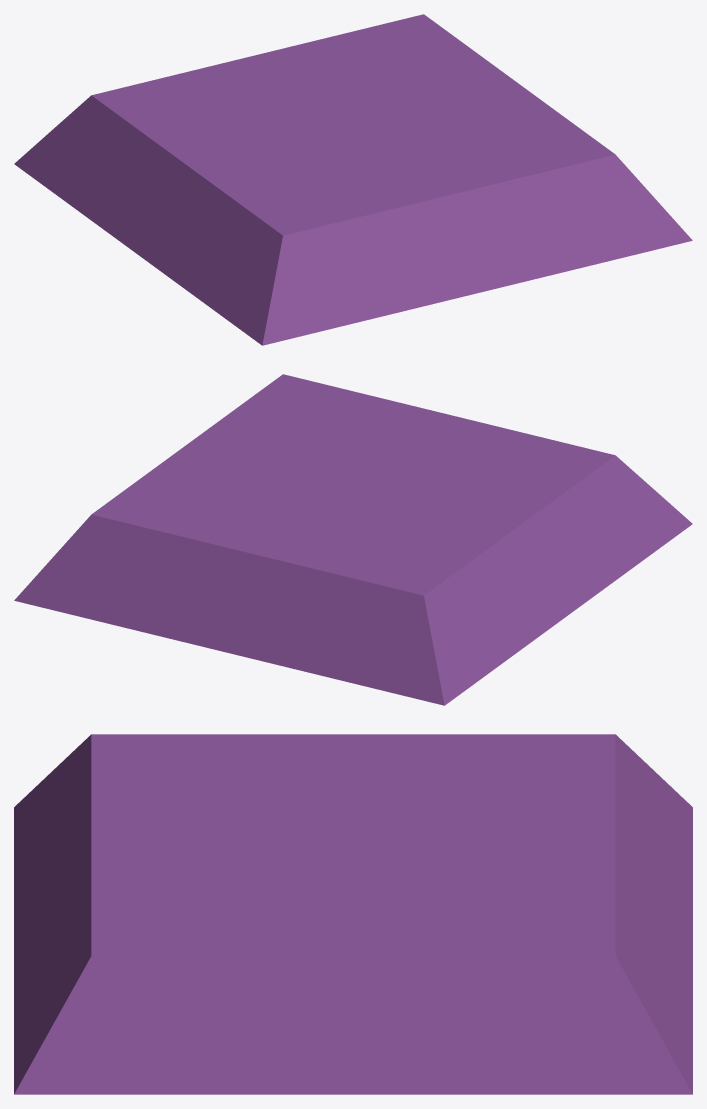
Rendered from Itr_Obj_Monitor_CRT_Base_06.FBX.
3 views of the same model, one above another, from view 1: azimuth 30°, elevation 25°; view 2: azimuth 150°, elevation 25°; view 3: azimuth 270°, elevation 25° (orthographic). The views are drawn at different scales.
Visible parts, largest first — view 1: Itr_Obj_Monitor_CRT_Base_06; view 2: Itr_Obj_Monitor_CRT_Base_06; view 3: Itr_Obj_Monitor_CRT_Base_06.
Part boxes in pixels (box(x1,y1,x2,y2)): Itr_Obj_Monitor_CRT_Base_06: box(14, 14, 692, 345); Itr_Obj_Monitor_CRT_Base_06: box(14, 374, 692, 705); Itr_Obj_Monitor_CRT_Base_06: box(14, 734, 692, 1094).
Size of the model in its own units: 12.64 by 2.17 by 12.62.
